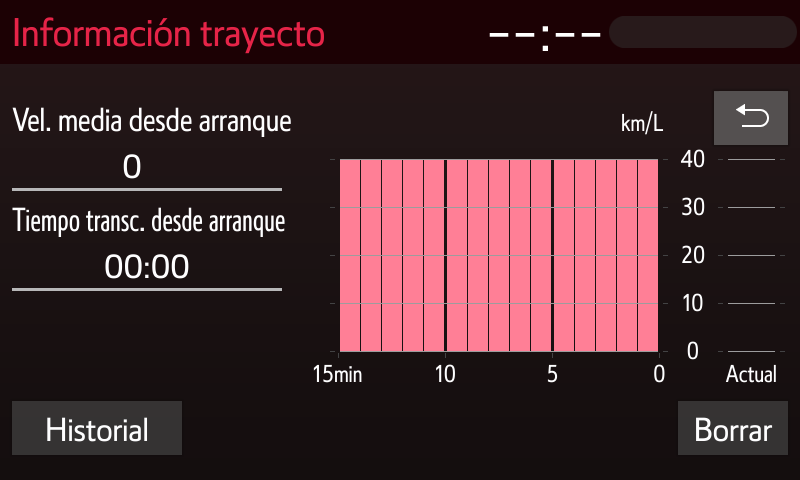touchPart: (9, 396, 188, 458), (678, 396, 794, 459), (709, 85, 793, 151)
untouchPart: (311, 99, 706, 386), (9, 97, 287, 302), (11, 12, 333, 55), (480, 12, 794, 53)
